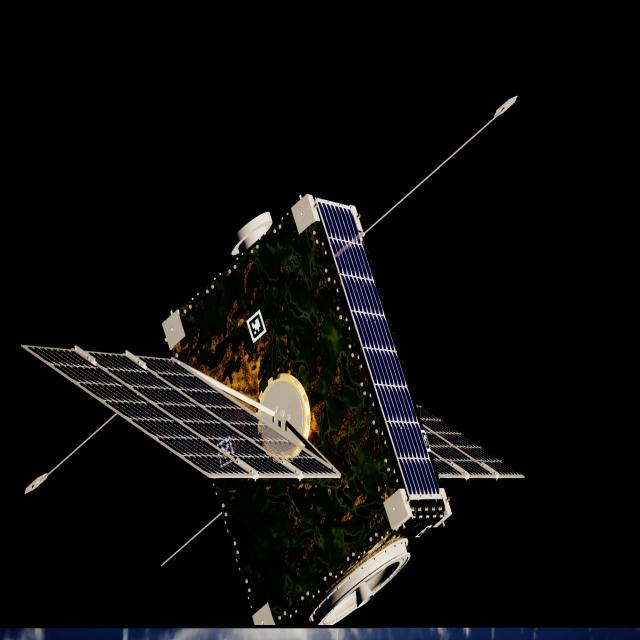medium_debris: (23, 195, 522, 628)
